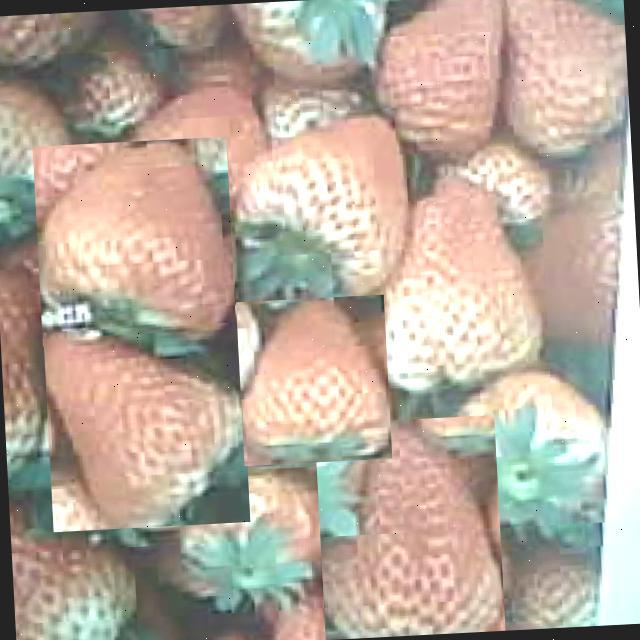ripe: (44, 322, 250, 532), (314, 415, 506, 640), (32, 136, 236, 346), (357, 185, 548, 391), (231, 114, 414, 300), (236, 294, 392, 466), (503, 0, 632, 158)
